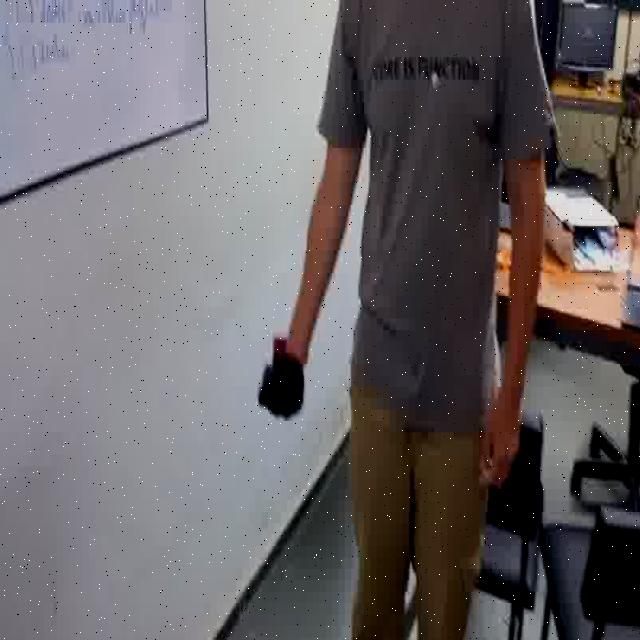Gloves: (260, 336, 306, 419)
